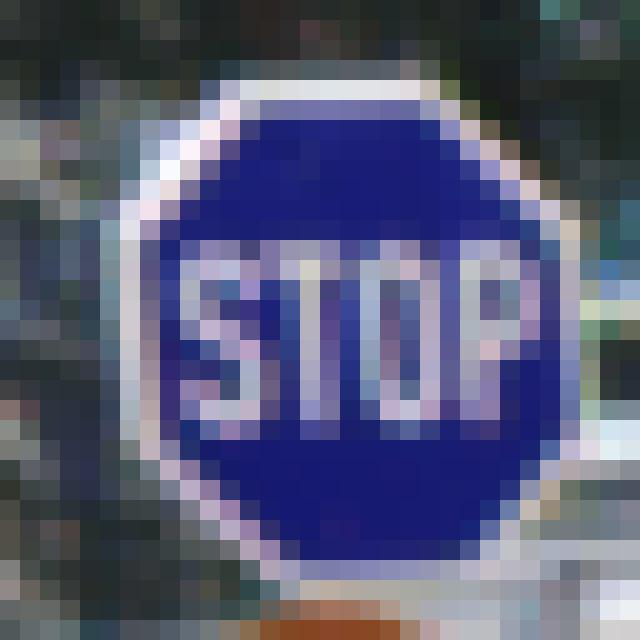STOP: (112, 80, 602, 578)
